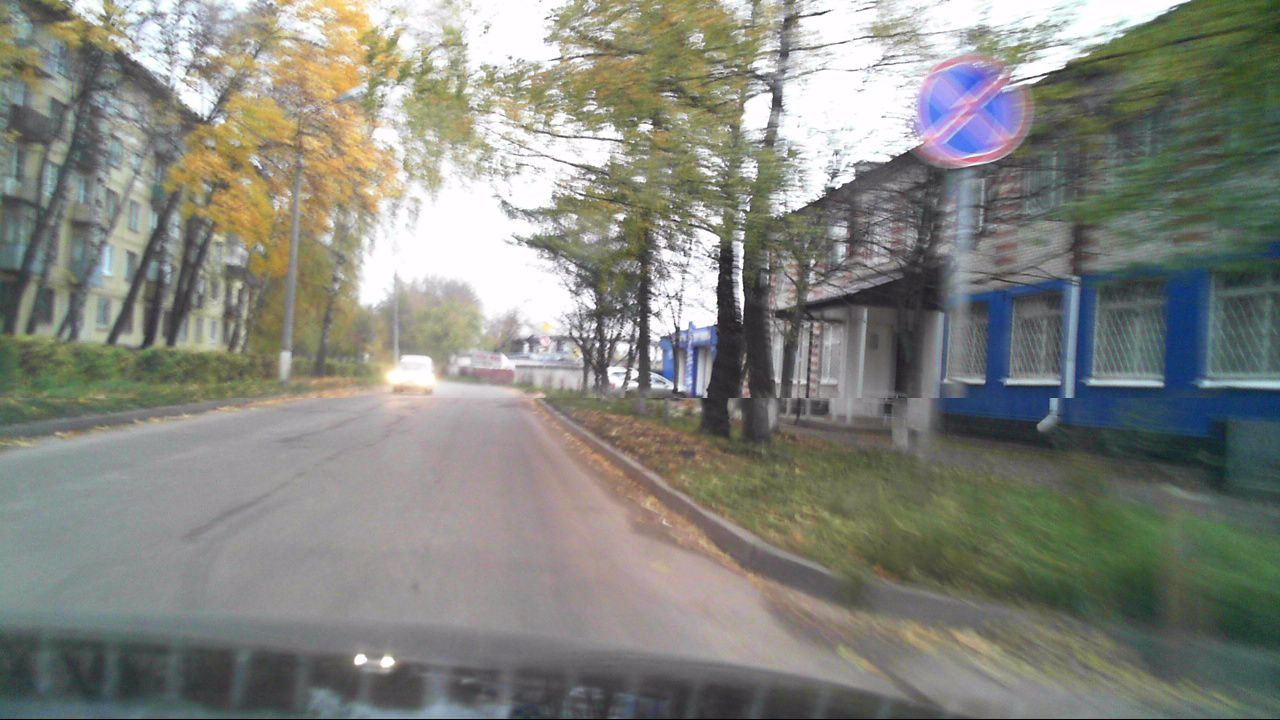No Parking: (918, 56, 1032, 165)
